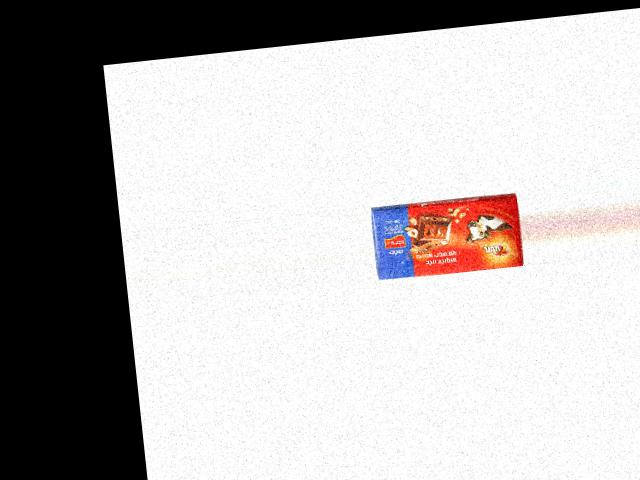chocolate: (370, 192, 525, 280)
